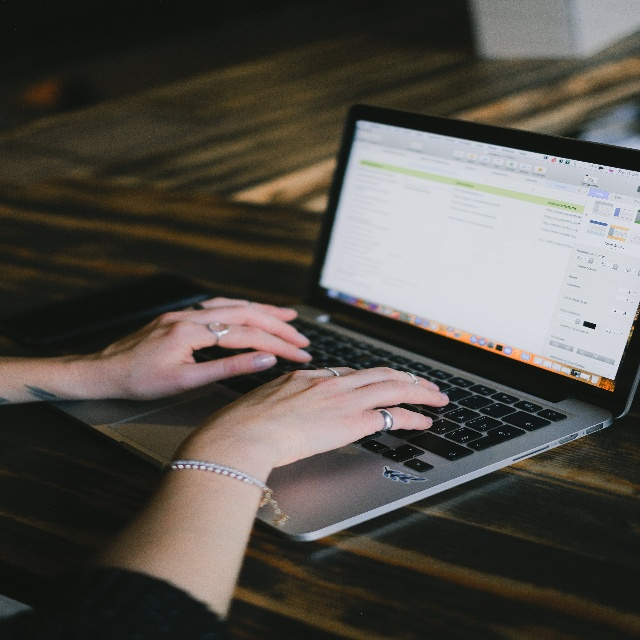Sin_guantes: (178, 364, 450, 462), (101, 295, 314, 381)
